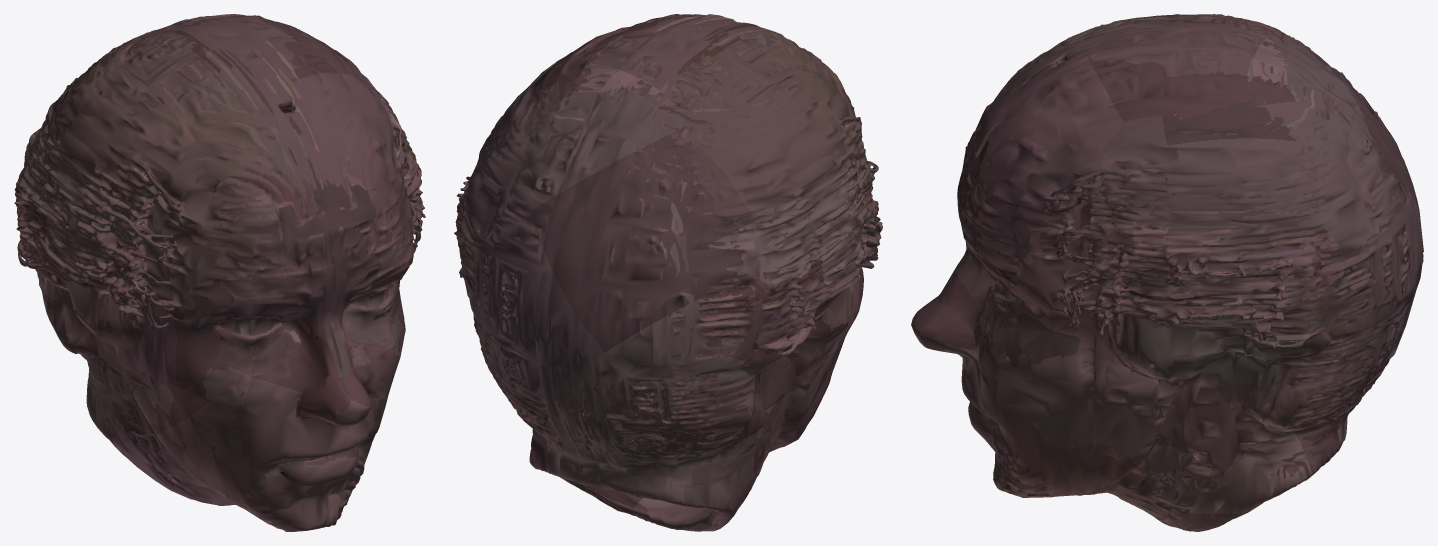
Rendered from admin_face.glb.
3 renders of one model, left to right at view 1: azimuth 30°, elevation 25°; view 2: azimuth 150°, elevation 25°; view 3: azimuth 270°, elevation 25°, orthographic. The views are drawn at different scales.
Size of the model in its own units: 1.53 by 2 by 1.92.
Materials: 1 (1 with a texture image).
